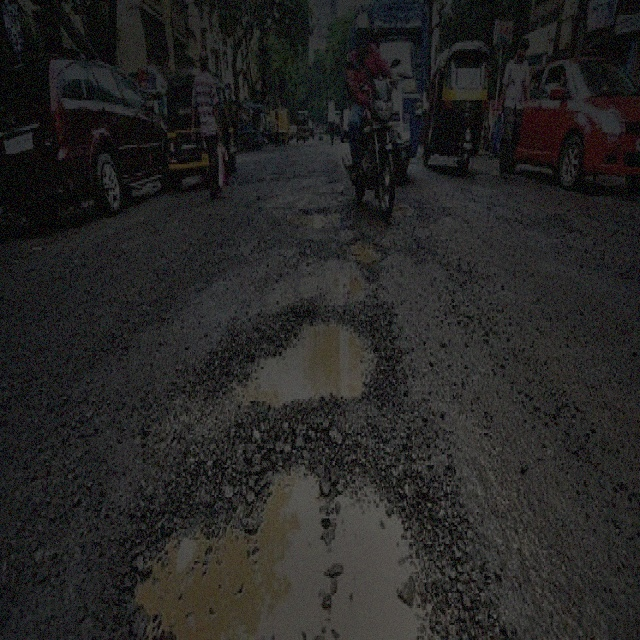pothole: (105, 426, 488, 634), (218, 301, 398, 401), (324, 258, 370, 299), (345, 228, 384, 267), (293, 202, 343, 232)
